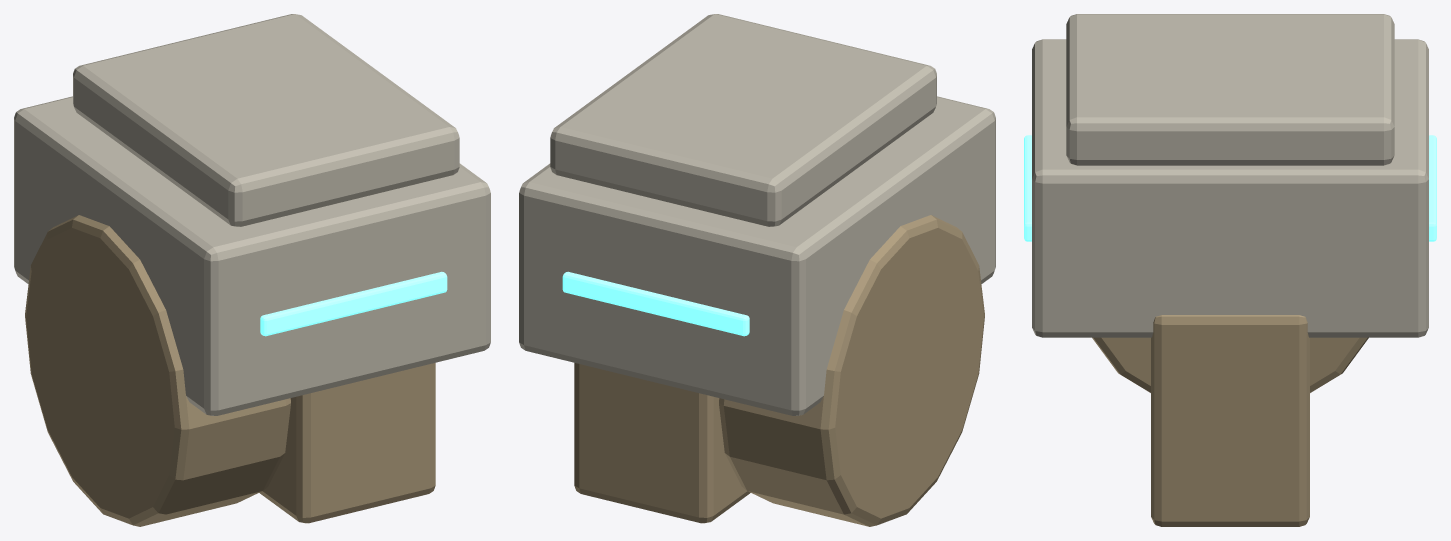
Rendered from Shoulder.glb.
3 renders of one model, left to right at view 1: azimuth 30°, elevation 25°; view 2: azimuth 150°, elevation 25°; view 3: azimuth 270°, elevation 25°, orthographic.
Visible parts, largest first — view 1: PART_Shoulder.008; view 2: PART_Shoulder.008; view 3: PART_Shoulder.008.
Boxes of the visible parts, box(x1,y1,x2,y2) form: PART_Shoulder.008: box(14, 14, 490, 526); PART_Shoulder.008: box(519, 14, 995, 526); PART_Shoulder.008: box(1024, 14, 1436, 526).
Bounding box in the file's own units: 0.65 × 0.835 × 0.78.
